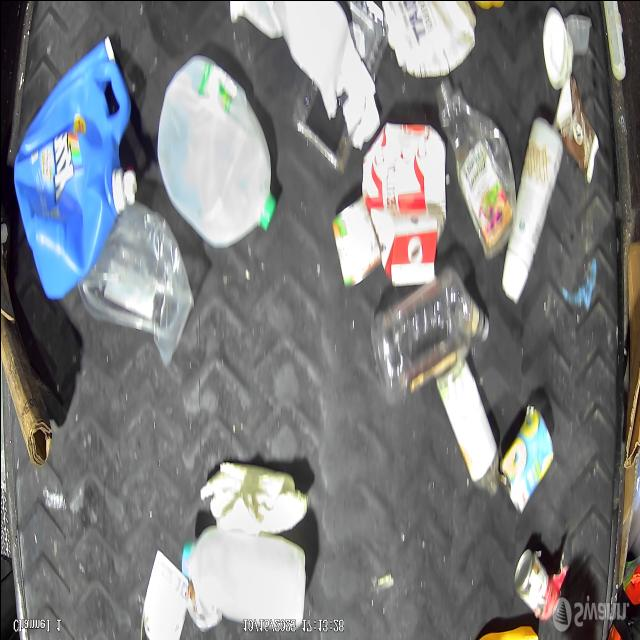can: (501, 406, 556, 509), (515, 538, 571, 628)
milk_jug: (152, 58, 279, 248), (178, 528, 308, 640)
non_white_jug: (10, 34, 136, 302)
plastic_bottle: (367, 274, 488, 406)
